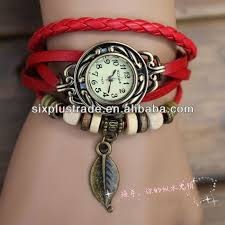clock: (86, 53, 136, 104)
